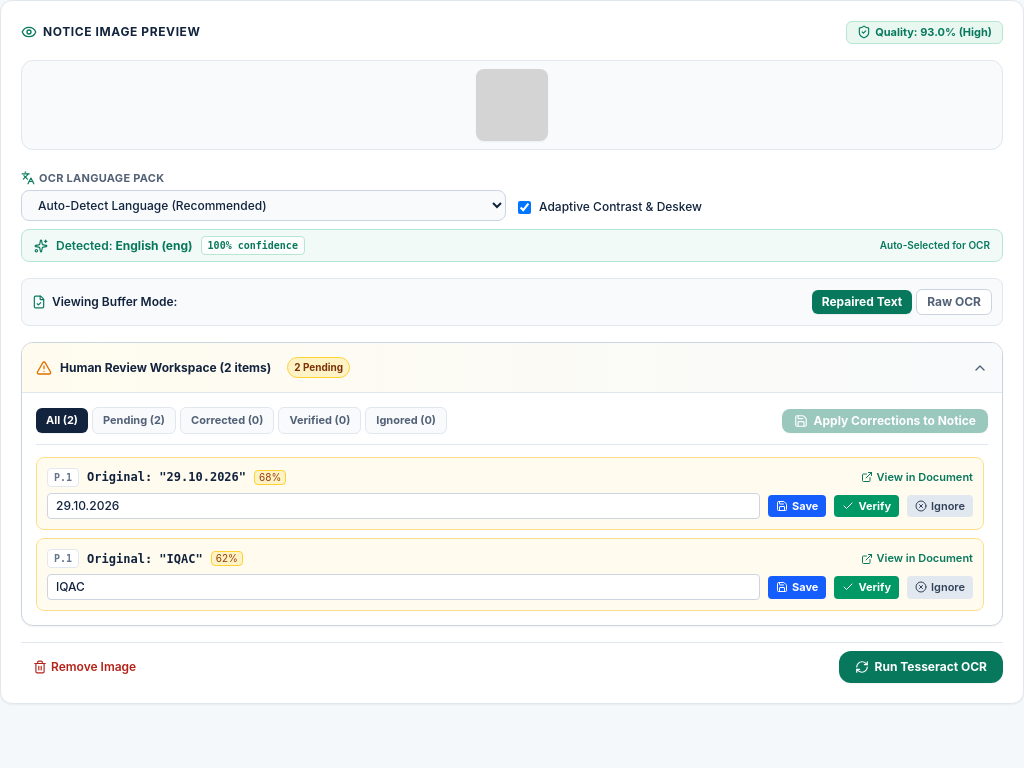
Test case: OCR Intelligence & Human Review System › synchronizes underline status colors (pending red, verified green, corrected blue)
The width and height of the screenshot is (1024, 768).
// Click View in Document on first pending span
Click the button "View in Document" in the row of "68" at (917, 478), box [861, 470, 973, 485]
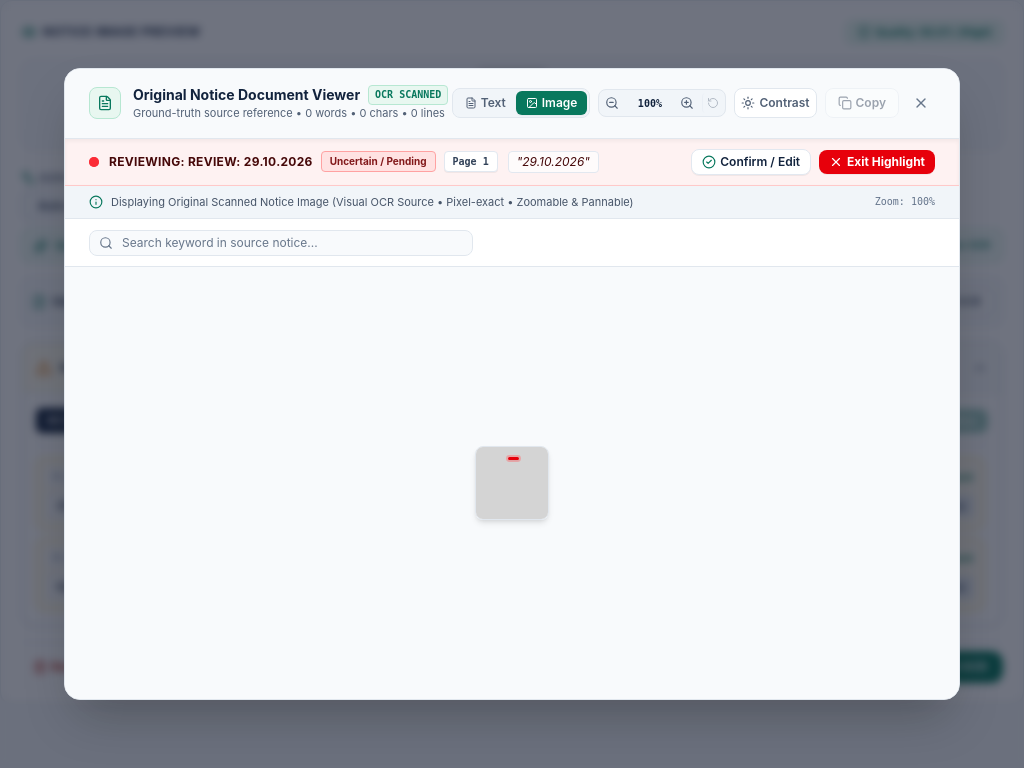
Expected: the element with test id "ocr-red-underline-highlight" is shown, [508, 457, 519, 460]
